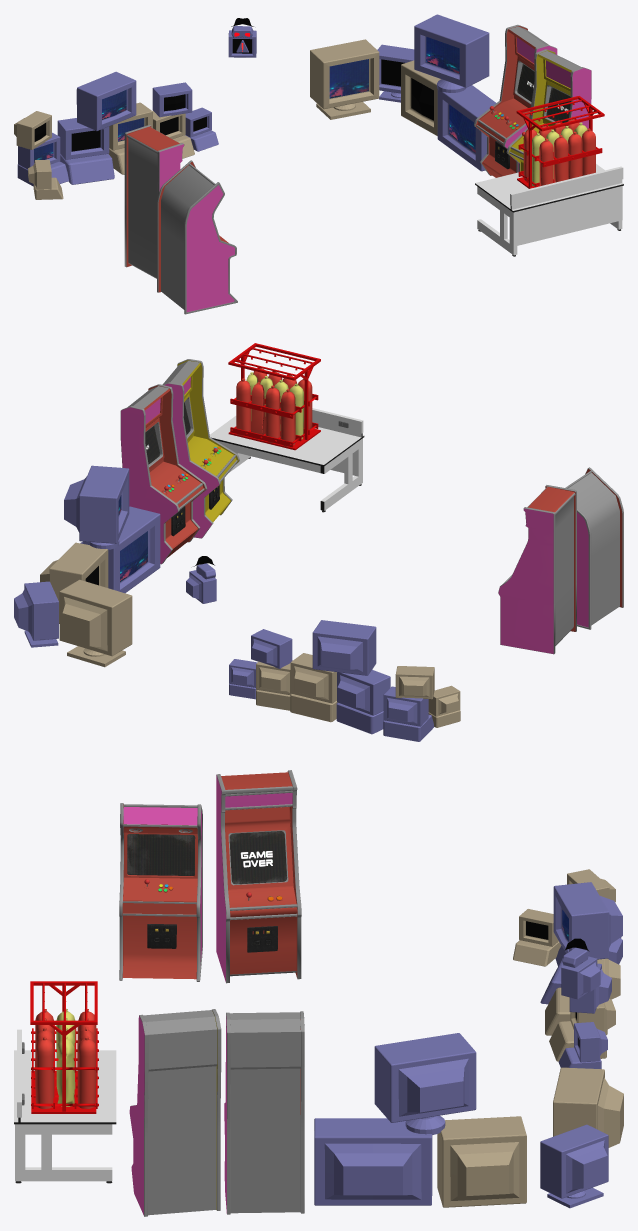
Rendered from isi dalam ruang komp.fbx.
The picture shows the model from 3 angles, top to bottom: view 1: azimuth 30°, elevation 25°; view 2: azimuth 150°, elevation 25°; view 3: azimuth 270°, elevation 25°; orthographic projection. The views are drawn at different scales.
Parts seen in each view (by area): view 1: arcade 5.001, bawh, arcade 6, Cube.007, arcade 4.001, PC_lowpoly.005, PC_lowpoly.002, arcade 4.002, PC_lowpoly.006, Cube.003, PC_lowpoly.003, PC_lowpoly.004 (+9 smaller); view 2: arcade 6, arcade 4.001, Cube.007, arcade 5.001, arcade 4.002, bawh, PC_lowpoly.005, PC_lowpoly.002, PC_lowpoly.006, PC_lowpoly.003, Cube.003, Cube.002 (+9 smaller); view 3: arcade 4.002, arcade 6, arcade 4.001, arcade 5.001, PC_lowpoly.006, PC_lowpoly.002, PC_lowpoly.004, Cube.007, bawh, PC_lowpoly, PC_lowpoly.005, PC_lowpoly.003 (+8 smaller).
Boxes of the visible parts, x1,y1,x2,y2 form: arcade 5.001: [157, 160, 237, 314]; bawh: [475, 164, 623, 256]; arcade 6: [124, 125, 184, 278]; Cube.007: [516, 96, 604, 188]; arcade 4.001: [474, 24, 557, 177]; PC_lowpoly.005: [310, 39, 379, 119]; PC_lowpoly.002: [414, 14, 489, 92]; arcade 4.002: [506, 49, 591, 171]; PC_lowpoly.006: [437, 85, 495, 171]; Cube.003: [57, 118, 114, 184]; PC_lowpoly.003: [76, 71, 136, 130]; PC_lowpoly.004: [401, 60, 440, 135]; arcade 6: [498, 485, 576, 654]; arcade 4.001: [120, 384, 207, 564]; Cube.007: [228, 343, 320, 450]; arcade 5.001: [565, 467, 623, 629]; arcade 4.002: [162, 359, 239, 538]; bawh: [209, 408, 364, 512]; PC_lowpoly.005: [59, 579, 132, 667]; PC_lowpoly.002: [64, 465, 129, 549]; PC_lowpoly.006: [80, 506, 160, 593]; PC_lowpoly.003: [312, 620, 376, 675]; Cube.003: [336, 669, 390, 734]; Cube.002: [290, 653, 337, 722]; arcade 4.002: [129, 1009, 221, 1216]; arcade 6: [216, 770, 301, 983]; arcade 4.001: [224, 1011, 304, 1214]; arcade 5.001: [119, 803, 202, 981]; PC_lowpoly.006: [314, 1118, 432, 1205]; PC_lowpoly.002: [374, 1033, 476, 1135]; PC_lowpoly.004: [437, 1116, 526, 1207]; Cube.007: [30, 981, 98, 1113]; bawh: [14, 1029, 116, 1183]; PC_lowpoly: [540, 1124, 608, 1208]; PC_lowpoly.005: [553, 1067, 623, 1147]; PC_lowpoly.003: [553, 882, 622, 959].
Size of the model in its own units: 2265 by 751 by 2162.
21 materials, 4 textured.
